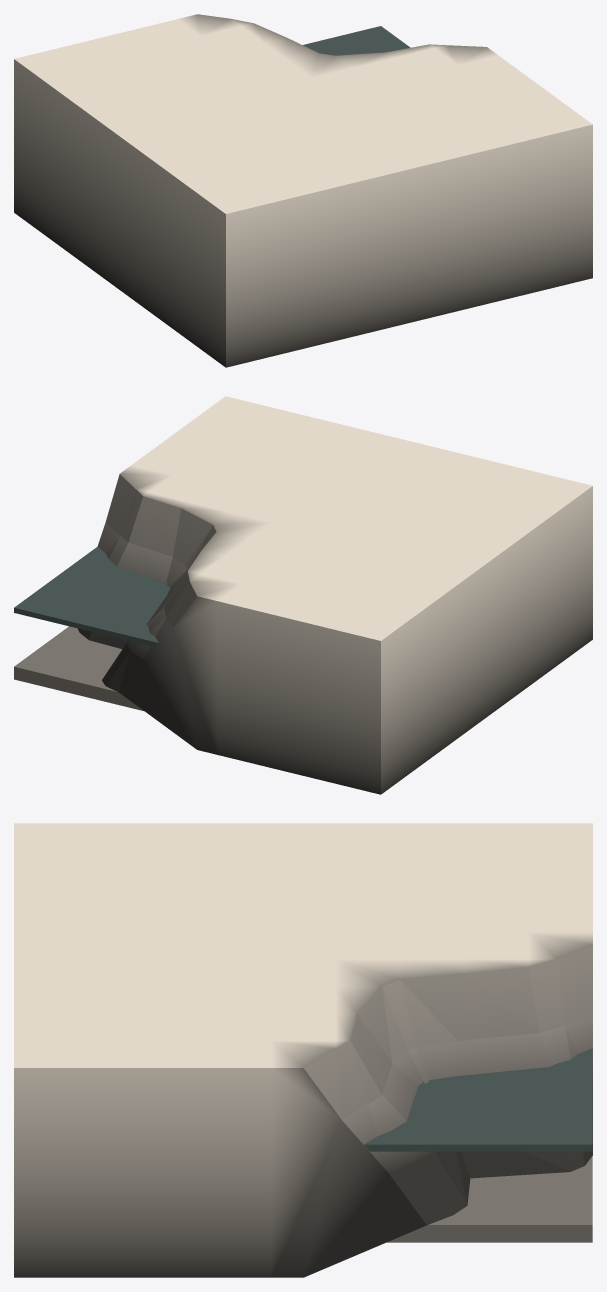
The model's file is SM_VKI_Ground_Stream_OOXO_Q00.fbx.
3 renders of one model, top to bottom at view 1: azimuth 30°, elevation 25°; view 2: azimuth 150°, elevation 25°; view 3: azimuth 270°, elevation 25°, orthographic. The views are drawn at different scales.
Visible parts, largest first — view 1: SM_VKI_Ground_Stream_OOXO_Q00.001; view 2: SM_VKI_Ground_Stream_OOXO_Q00.001; view 3: SM_VKI_Ground_Stream_OOXO_Q00.001.
Part boxes in pixels (left/top/right/bottom): SM_VKI_Ground_Stream_OOXO_Q00.001: left=14, top=14, right=592, bottom=367; SM_VKI_Ground_Stream_OOXO_Q00.001: left=14, top=396, right=592, bottom=794; SM_VKI_Ground_Stream_OOXO_Q00.001: left=14, top=823, right=592, bottom=1277.
Bounding box in the file's own units: 1.5 × 0.6 × 1.5.
